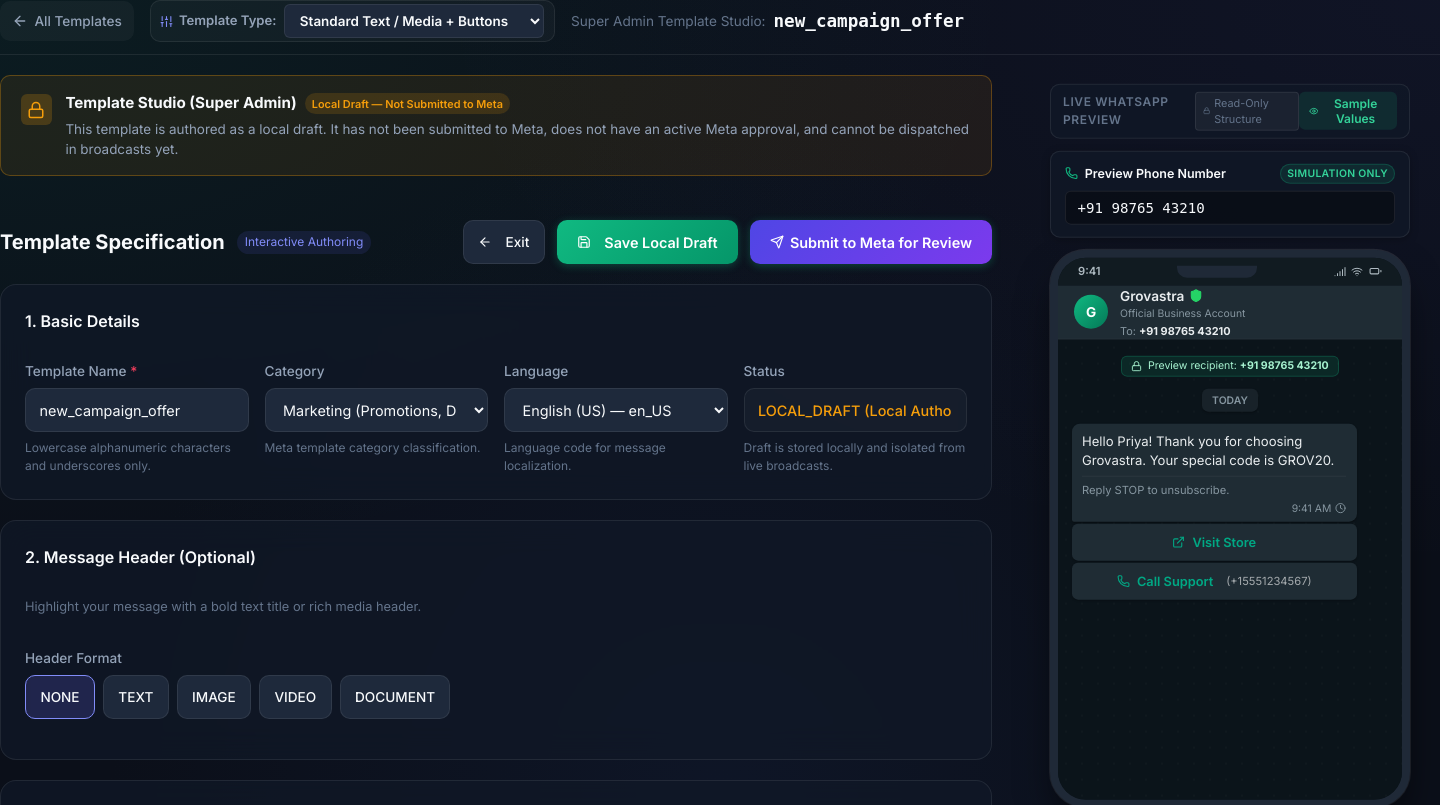
Test: Template Studio Meta Submission & Approval Flow › 2. UI Submission Review Modal & User Confirmation › enables the confirm button only when the policy confirmation checkbox is checked
What coordinates should you click on to do the following:
click the button with test id "submit-meta-btn"
I would click on:
 (871, 242)
Its box is [750,220,992,264].
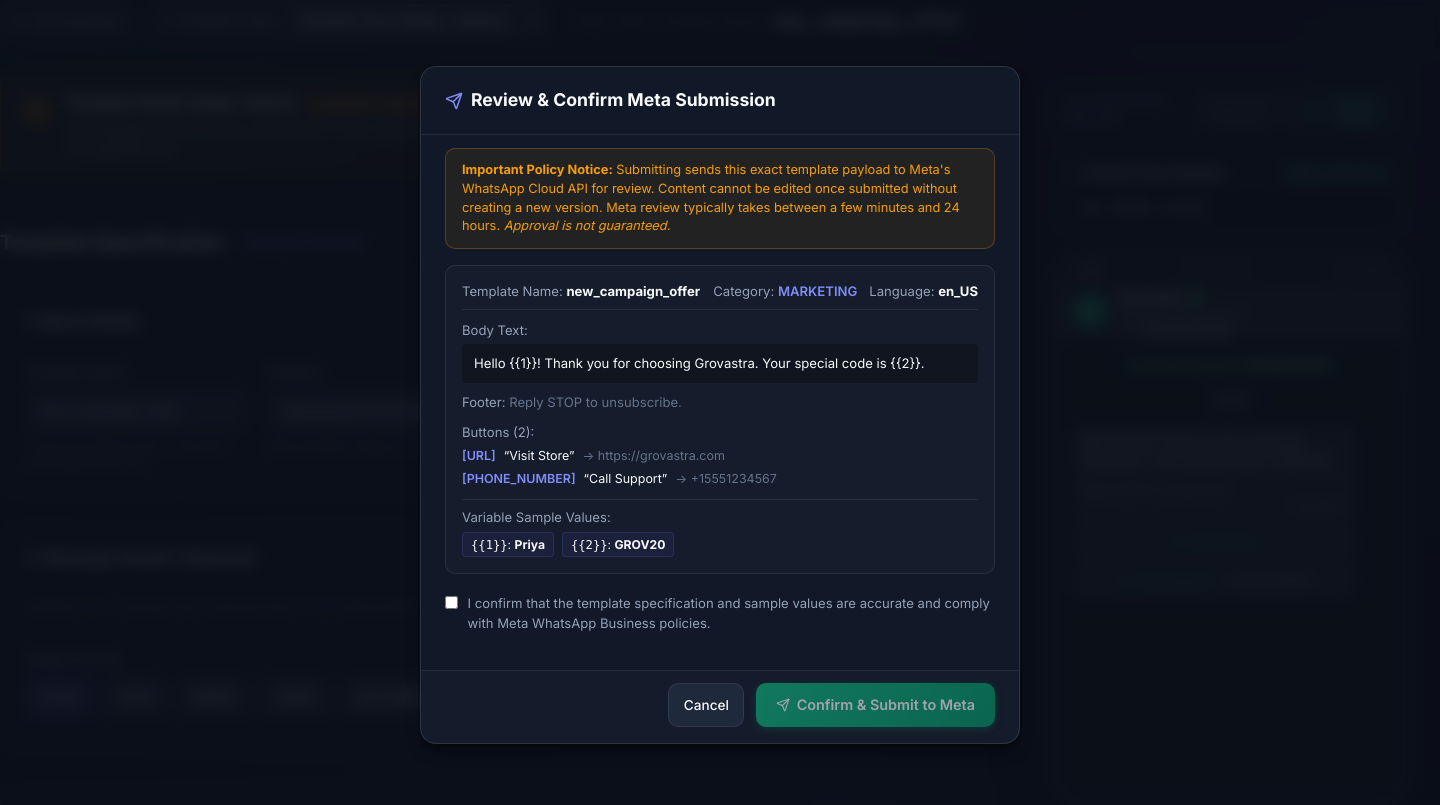
Now the button with test id "confirm-submit-meta-btn" is disabled, box [756,682,995,726]
What coordinates should you click on to do the following:
click the checkbox with test id "confirm-meta-policy-check"
I would click on:
 (452, 603)
Its box is [445,596,458,609].
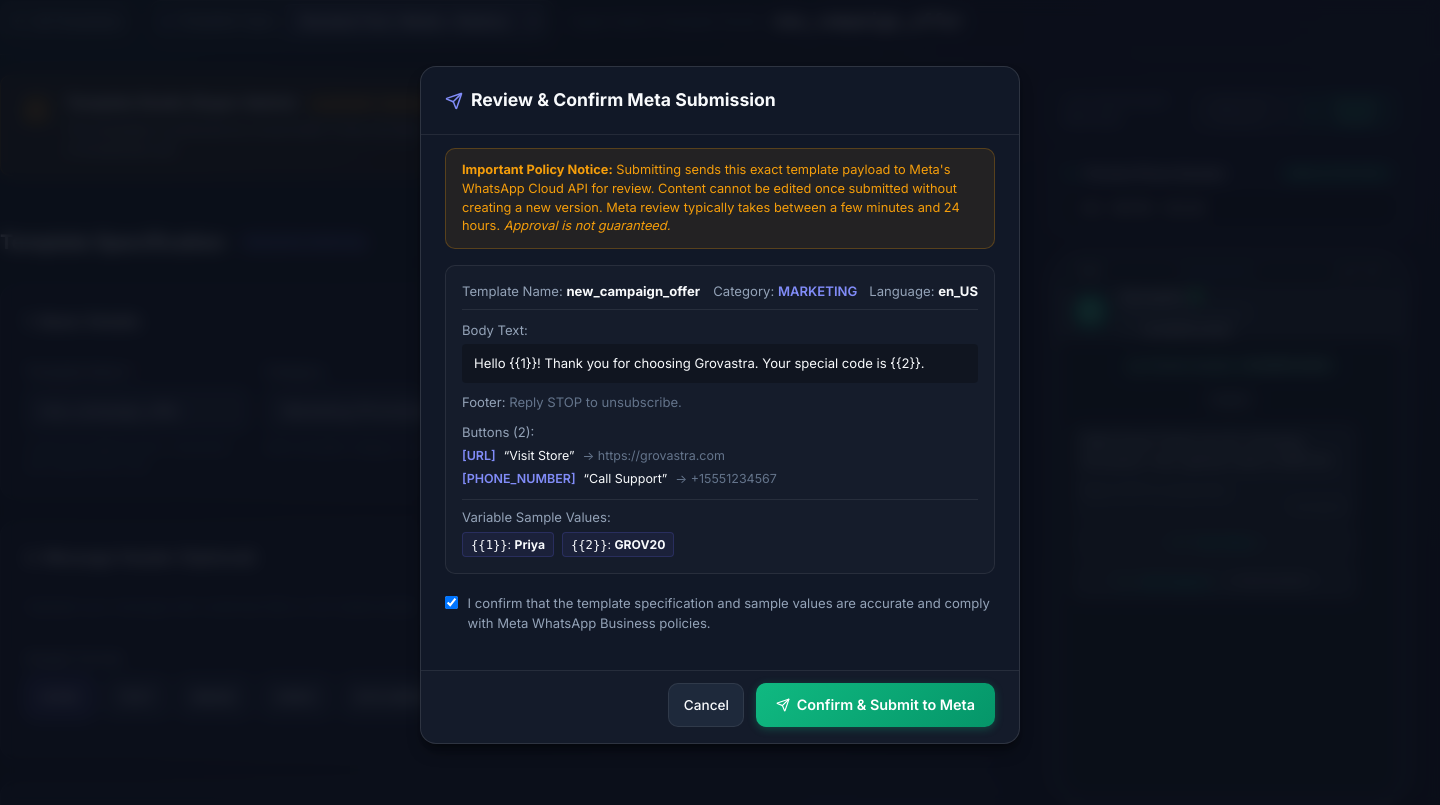
Now the checkbox with test id "confirm-meta-policy-check" is checked, box [445,596,458,609]
Now the button with test id "confirm-submit-meta-btn" is enabled, box [756,682,995,726]
